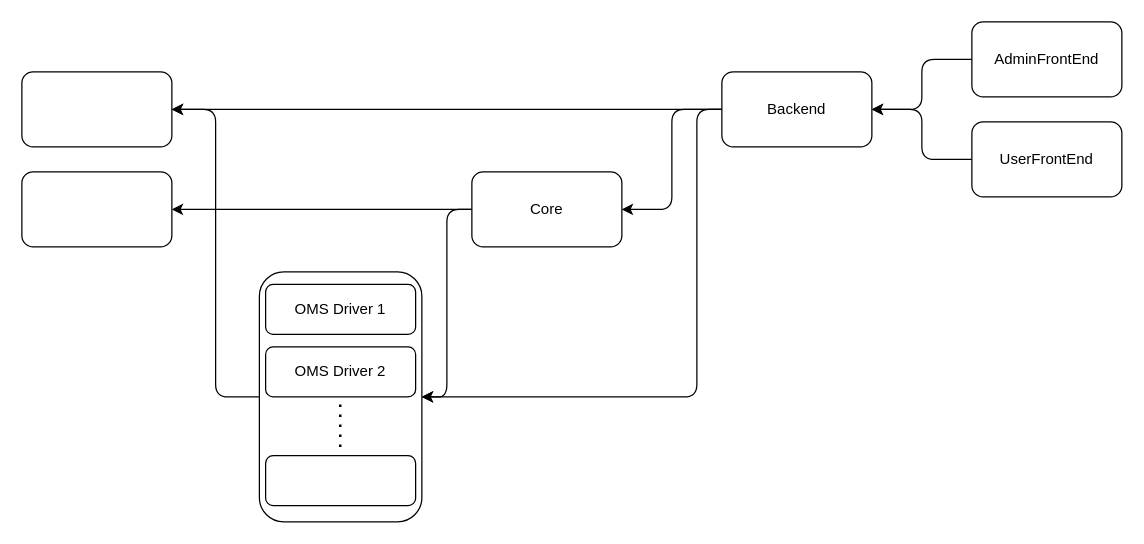
This 1144x544 diagram has some shape labels left out. The centre of each missing label's shape, as x and y in pixels:
MariaDB: point 96,109
OMS Driver 3: point 340,480
Redis: point 96,209
